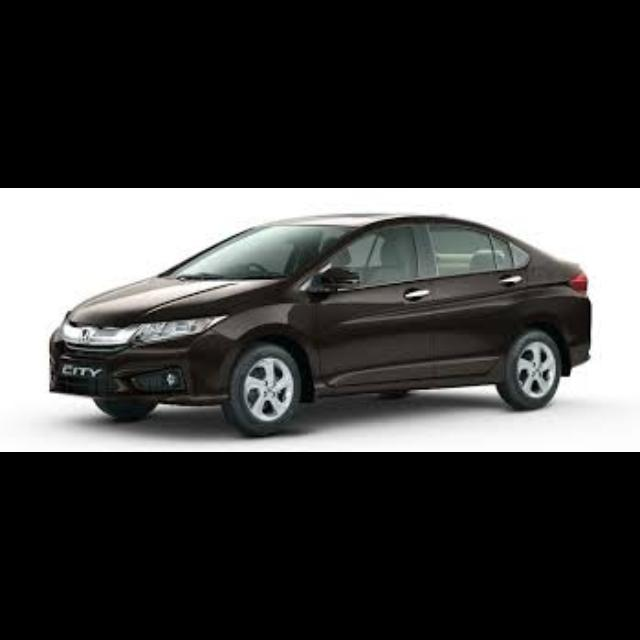vehicles: (31, 208, 599, 442)
